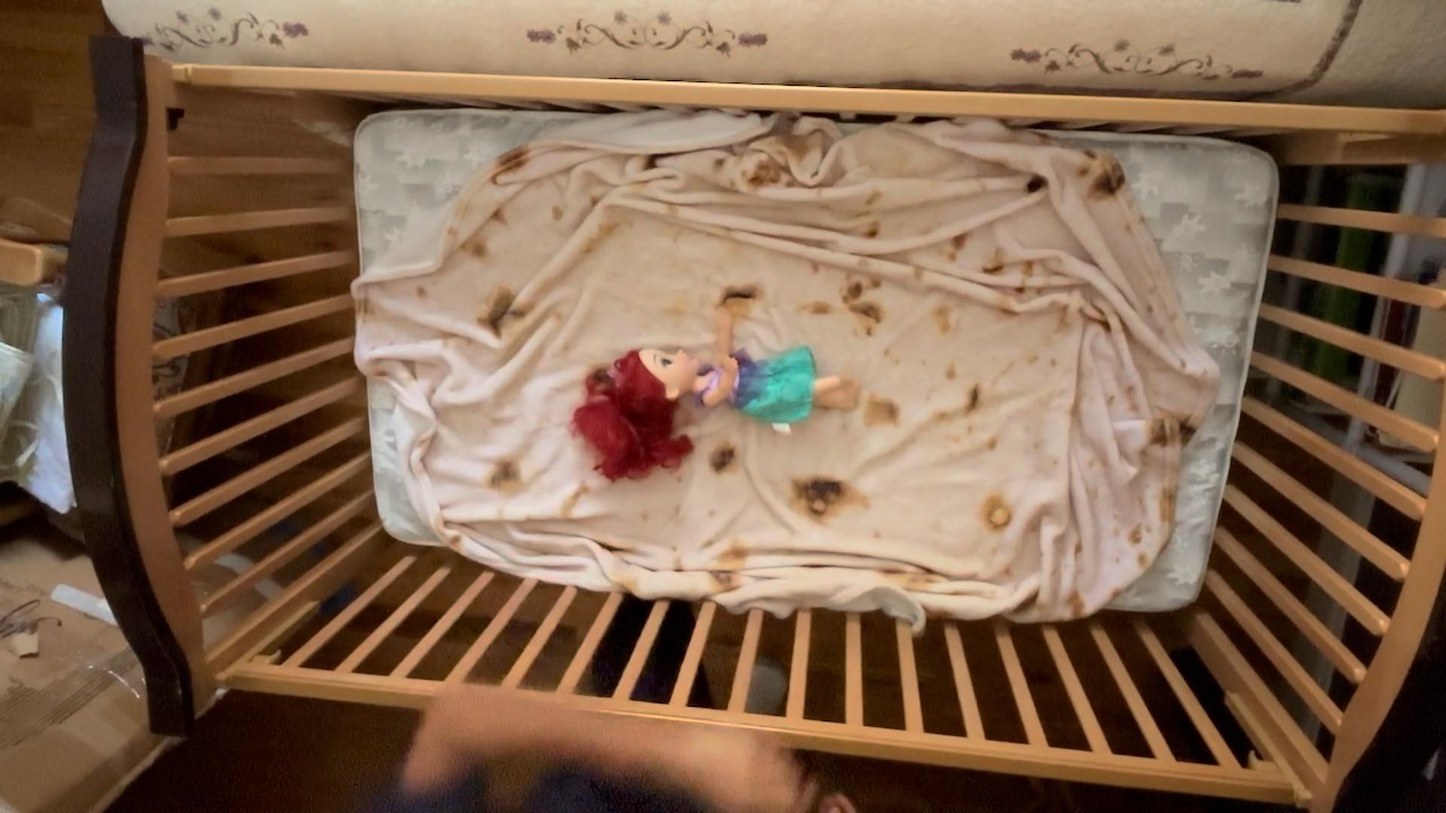baby: (578, 310, 862, 488)
